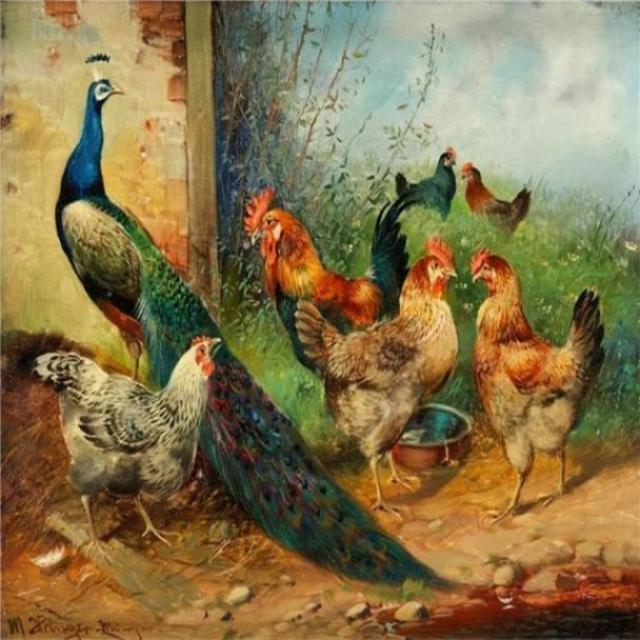Chicken: (288, 225, 465, 530), (29, 326, 229, 554), (239, 182, 414, 426), (463, 241, 601, 520), (455, 150, 537, 246), (389, 138, 459, 235)
